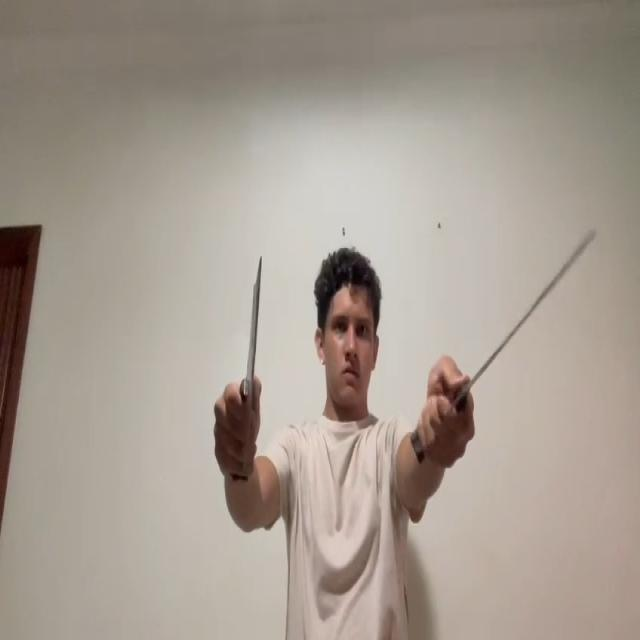knife: (243, 254, 263, 424)
